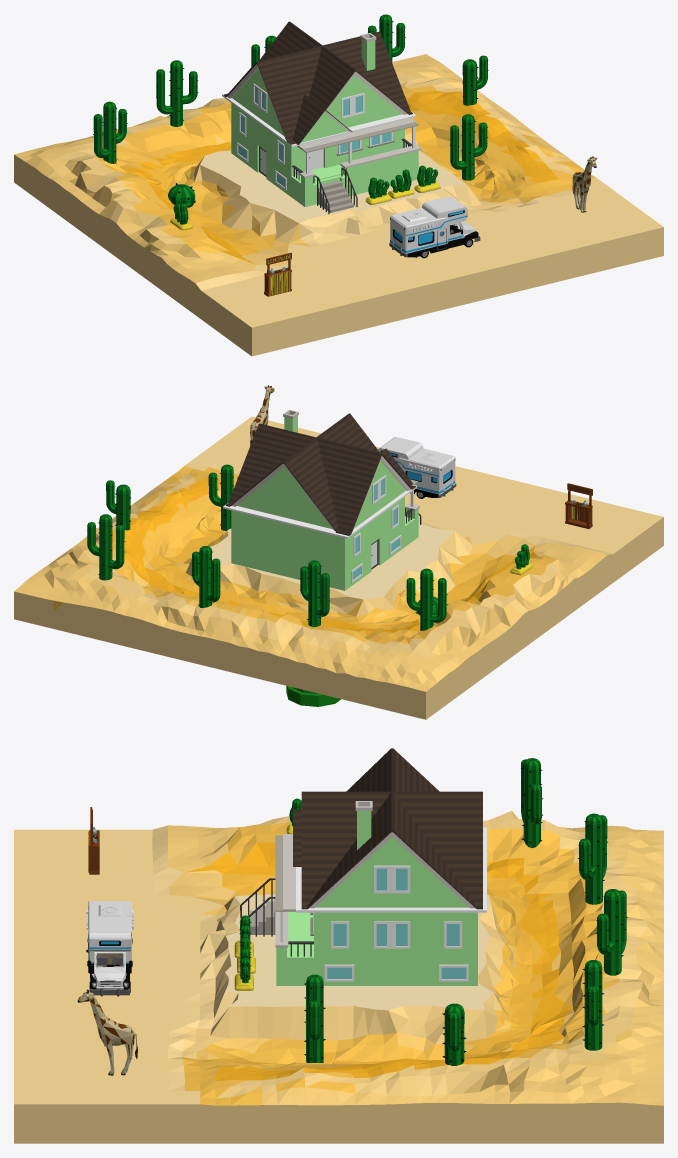
3 renders of one model, top to bottom at view 1: azimuth 30°, elevation 25°; view 2: azimuth 150°, elevation 25°; view 3: azimuth 270°, elevation 25°, orthographic. The views are drawn at different scales.
Parts seen in each view (by area): view 1: Cube.001, Cube.274, VEHICLES_CAMPER, Cylinder.044, Cylinder.037, Cylinder.045, Cylinder.038, OBJRANDOM_LEMONADE_STAND, Cylinder.042, ANIMAL_JIRAFA, Cylinder.039, Cylinder.041 (+1 smaller); view 2: Cube.001, Cube.274, VEHICLES_CAMPER, Cylinder.042, Cylinder.045, Cylinder.044, Cylinder.043, Cylinder.037, OBJRANDOM_LEMONADE_STAND, Cylinder.038, UNDERGROUND_PIPES; view 3: Cube.001, Cube.274, VEHICLES_CAMPER, Cylinder.044, Cylinder.043, Cylinder.045, Cylinder.042, ANIMAL_JIRAFA, Cylinder.037, Cylinder.038, OBJRANDOM_LEMONADE_STAND, Cylinder.041.
Part boxes in pixels (x1,y1,x2,y2): Cube.001: (14, 54, 663, 356); Cube.274: (222, 21, 421, 213); VEHICLES_CAMPER: (389, 196, 480, 258); Cylinder.044: (156, 60, 198, 126); Cylinder.037: (449, 114, 488, 180); Cylinder.045: (93, 101, 127, 163); Cylinder.038: (462, 55, 488, 105); OBJRANDOM_LEMONADE_STAND: (264, 252, 291, 296); Cylinder.042: (368, 14, 405, 62); ANIMAL_JIRAFA: (572, 156, 597, 212); Cylinder.039: (365, 177, 391, 204); Cylinder.041: (414, 165, 440, 192); Cube.001: (14, 416, 663, 719); Cube.274: (223, 409, 421, 590); VEHICLES_CAMPER: (378, 437, 456, 498); Cylinder.042: (87, 514, 125, 580); Cylinder.045: (406, 568, 447, 630); Cylinder.044: (300, 560, 329, 626); Cylinder.043: (191, 546, 220, 607); Cylinder.037: (208, 464, 238, 530); OBJRANDOM_LEMONADE_STAND: (565, 483, 592, 528); Cylinder.038: (106, 480, 130, 530); UNDERGROUND_PIPES: (286, 686, 340, 706); Cube.001: (14, 810, 663, 1143); Cube.274: (240, 748, 486, 985); VEHICLES_CAMPER: (86, 901, 133, 996); Cylinder.044: (578, 813, 607, 904); Cylinder.043: (595, 889, 627, 975); Cylinder.045: (521, 758, 543, 848); Cylinder.042: (582, 960, 604, 1050); ANIMAL_JIRAFA: (77, 989, 137, 1075); Cylinder.037: (304, 974, 325, 1062); Cylinder.038: (442, 1003, 466, 1065); OBJRANDOM_LEMONADE_STAND: (88, 807, 99, 874); Cylinder.041: (234, 948, 253, 990).
Size of the model in its own units: 4002 by 2210 by 4001.
39 materials, 2 textured.
